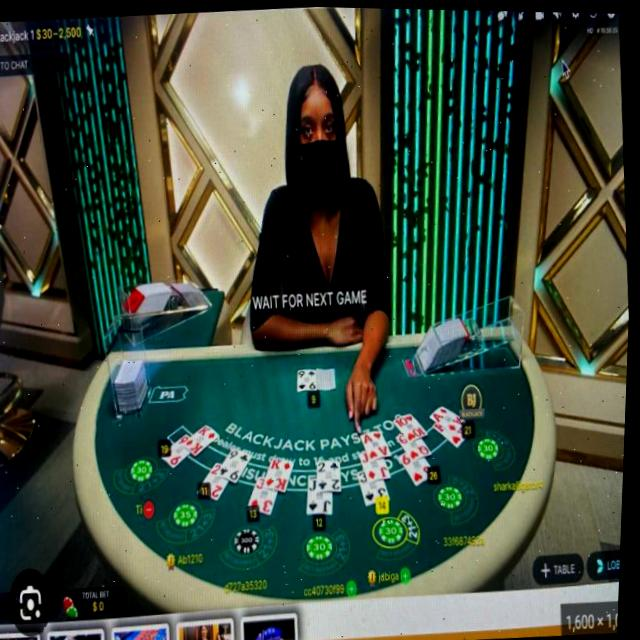Card-10: (397, 409, 430, 437)
Card-2: (201, 458, 232, 499), (321, 458, 343, 487)
Card-3: (360, 469, 394, 504), (251, 474, 280, 511)
Card-6: (402, 449, 438, 483)
Card-9: (222, 447, 255, 483), (164, 432, 194, 466), (300, 367, 319, 389)
Card-A: (432, 403, 469, 430), (363, 428, 394, 456)
Card-J: (309, 471, 335, 514), (362, 449, 394, 479)
Card-K: (188, 422, 222, 456), (269, 456, 297, 490), (436, 420, 473, 445)
Card-Q: (400, 431, 434, 458)
